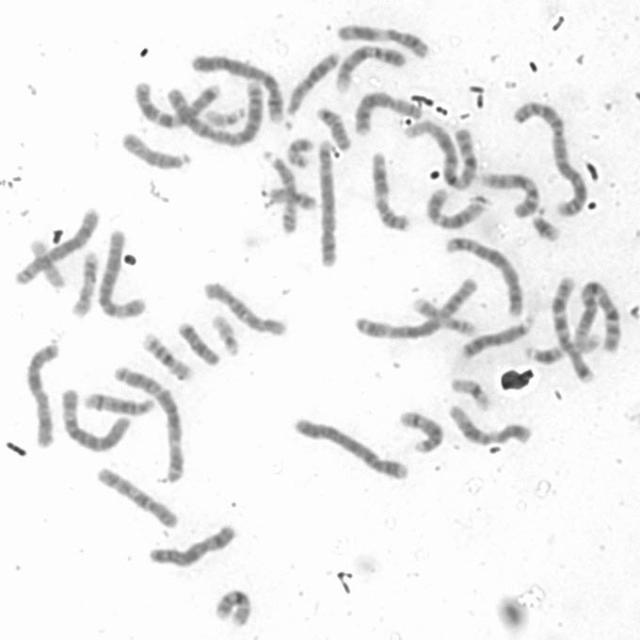A1: (523, 279, 621, 364), (404, 119, 476, 190)
A2: (513, 100, 586, 216), (166, 78, 264, 147)
A3: (112, 364, 184, 482), (354, 276, 479, 340)
B4: (292, 416, 409, 479), (190, 53, 286, 125)
B5: (444, 236, 524, 316), (316, 138, 338, 268)
C10: (97, 466, 178, 528), (202, 281, 287, 336)
C11: (336, 22, 431, 58), (371, 150, 411, 232)
C12: (447, 404, 533, 447), (426, 188, 488, 230)
C6: (96, 228, 147, 319), (61, 388, 131, 452)
C7: (550, 274, 594, 385), (135, 81, 222, 127)
C8: (13, 206, 100, 286), (353, 90, 423, 136)
C9: (337, 44, 407, 92), (480, 170, 540, 218)
D13: (286, 51, 341, 116), (460, 316, 536, 360)
D14: (398, 410, 444, 452), (83, 392, 155, 416)
D15: (262, 149, 298, 236), (121, 131, 191, 171)
E16: (141, 334, 192, 382), (215, 588, 251, 628)
E17: (411, 296, 478, 338), (72, 250, 100, 319)
E18: (178, 322, 220, 367), (315, 106, 352, 152)
F19: (28, 238, 67, 290), (449, 376, 491, 412)
F20: (269, 187, 317, 211), (286, 136, 316, 168)
G21: (531, 205, 561, 242), (523, 343, 566, 365)
G22: (211, 313, 240, 356), (203, 106, 246, 127)
X: (149, 523, 237, 568), (26, 342, 60, 448)
